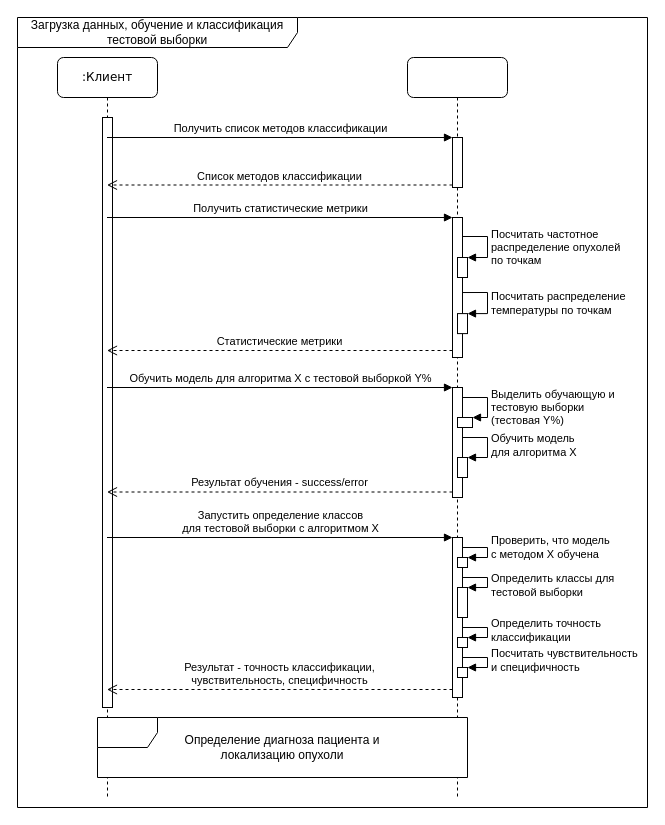
The diagram is 665 pixels wide and 825 high, and some of its shapes have lost their labels. The box of each missing label's shape, as (x1, y1, x2, y2) in pixels:
:Сервер: (406, 56, 508, 798)
ref: (96, 716, 468, 778)
